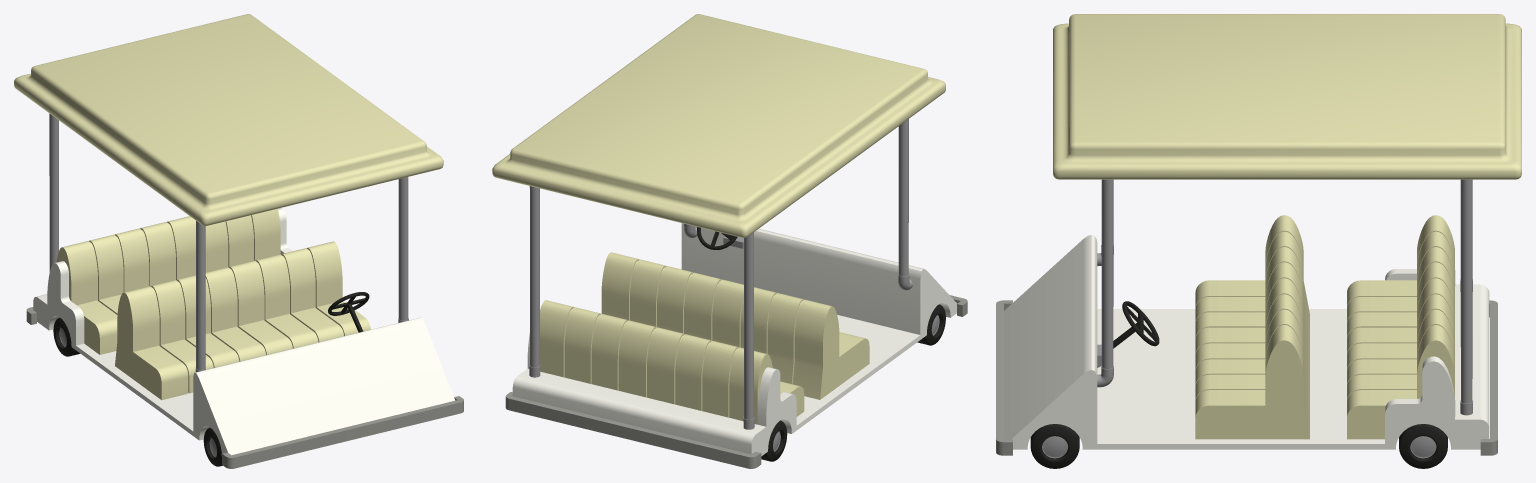
The model's file is cart.fbx.
3 renders of one model, left to right at view 1: azimuth 30°, elevation 25°; view 2: azimuth 150°, elevation 25°; view 3: azimuth 270°, elevation 25°, orthographic. The views are drawn at different scales.
Parts seen in each view (by area): view 1: Plane.001, Plane, Cube, Cylinder, Cube.001, Circle.001, Torus; view 2: Plane.001, Plane, Cube, Cylinder, Cube.001, Circle.001; view 3: Plane.001, Cube, Plane, Cylinder, Circle.001, Cube.001, Torus.
Boxes of the visible parts, <box> form: Plane.001: <box>14,14,443,225</box>; Plane: <box>56,208,370,400</box>; Cube: <box>33,208,455,455</box>; Cylinder: <box>49,113,408,372</box>; Cube.001: <box>26,307,463,468</box>; Circle.001: <box>53,317,222,466</box>; Torus: <box>328,292,369,332</box>; Plane.001: <box>492,14,945,237</box>; Plane: <box>540,252,869,424</box>; Cube: <box>512,223,956,456</box>; Cylinder: <box>529,119,912,429</box>; Cube.001: <box>505,295,967,468</box>; Circle.001: <box>761,304,945,461</box>; Plane.001: <box>1053,14,1521,179</box>; Cube: <box>1004,235,1489,449</box>; Plane: <box>1195,215,1454,439</box>; Cylinder: <box>1097,179,1472,415</box>; Circle.001: <box>1030,424,1447,468</box>; Cube.001: <box>996,300,1497,455</box>; Torus: <box>1113,301,1159,348</box>.
Bounding box in the file's own units: 217 × 227 × 333.
